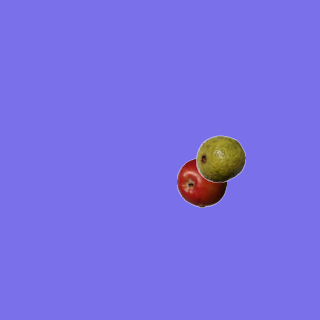Apple Braeburn: (176, 157, 226, 207)
Guava: (195, 133, 245, 183)
